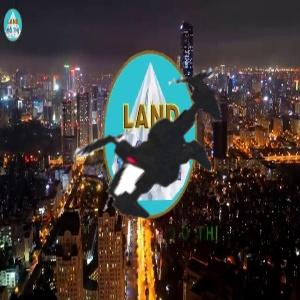drone: (29, 12, 281, 264)
